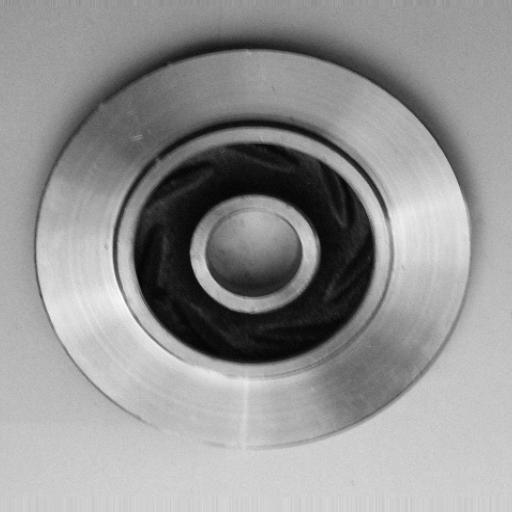scratch: (130, 406, 254, 461)
unpolished_casting: (32, 44, 472, 451)
